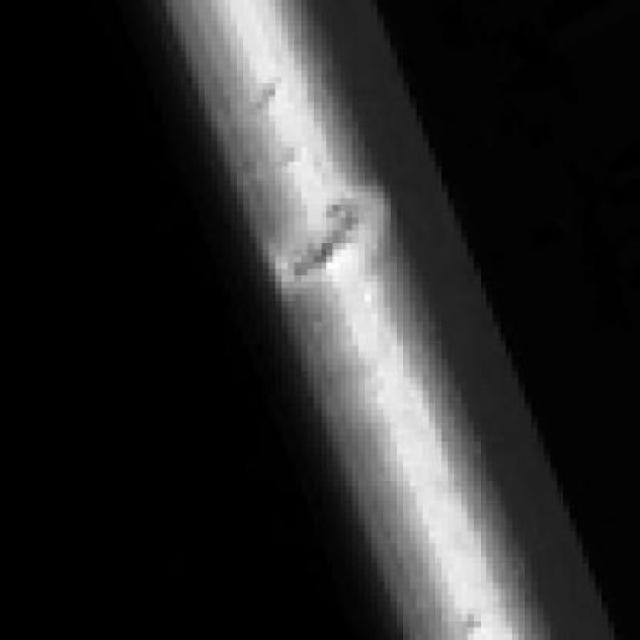non-defective: (116, 0, 640, 640)
